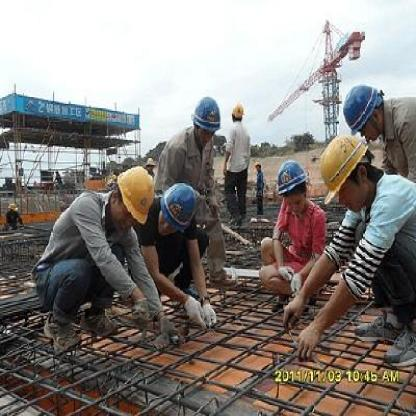helmet: (321, 126, 383, 208), (108, 160, 157, 234), (339, 78, 389, 144), (273, 155, 311, 214), (161, 180, 201, 229), (192, 93, 222, 148), (230, 97, 246, 126)
